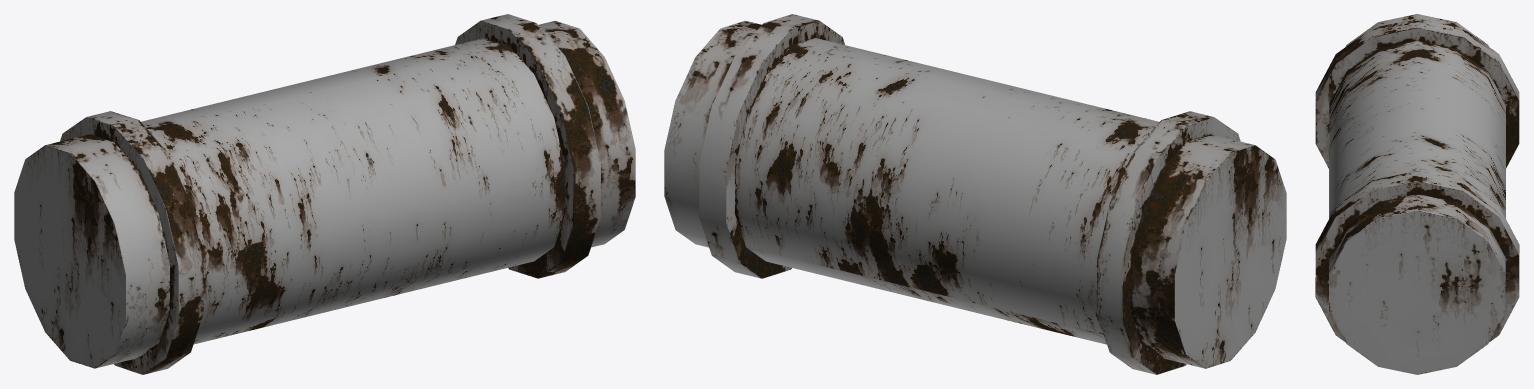
File: ShortPipe.fbx
3 views of the same model, side by side, from view 1: azimuth 30°, elevation 25°; view 2: azimuth 150°, elevation 25°; view 3: azimuth 270°, elevation 25° (orthographic). The views are drawn at different scales.
Parts seen in each view (by area): view 1: ShortPipe; view 2: ShortPipe; view 3: ShortPipe.
Part boxes in pixels (left/top/right/bottom): ShortPipe: left=14, top=14, right=635, bottom=374; ShortPipe: left=664, top=14, right=1286, bottom=374; ShortPipe: left=1315, top=14, right=1519, bottom=374.
Size of the model in its own units: 5.14 by 2.31 by 2.25.
1 material, 1 textured.
